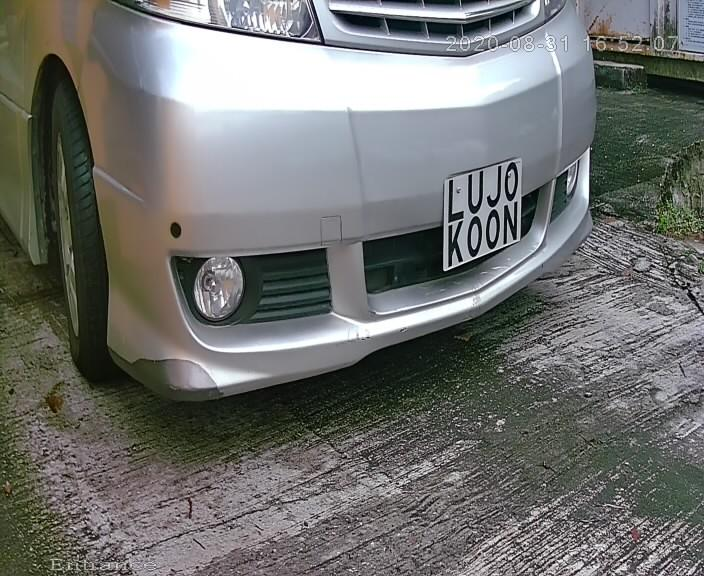License Plate: (434, 145, 538, 286)
